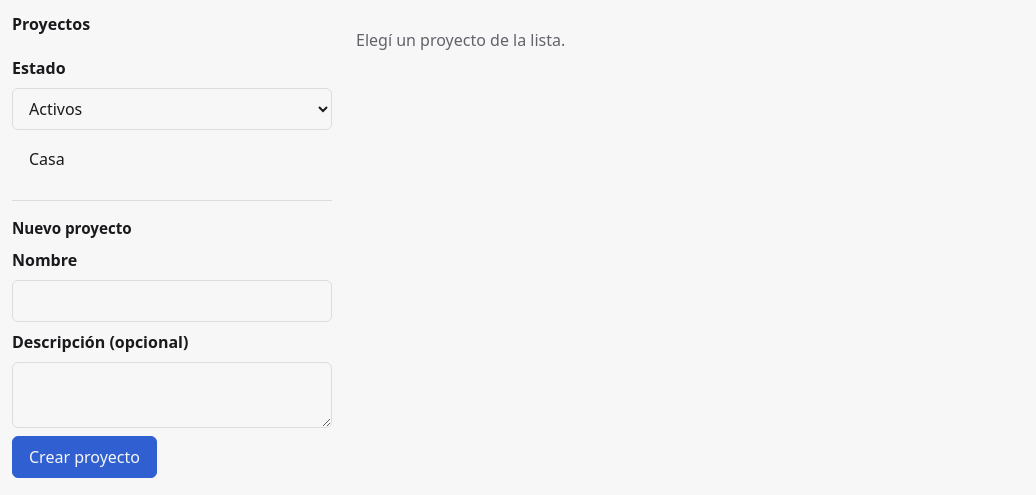
Test: ProjectsPage selection › selecting a project marks it as current and shows its detail
What coordinates should you click on to do the following:
click the button "Casa"
I would click on:
 (47, 159)
Its box is [12,138,332,180].
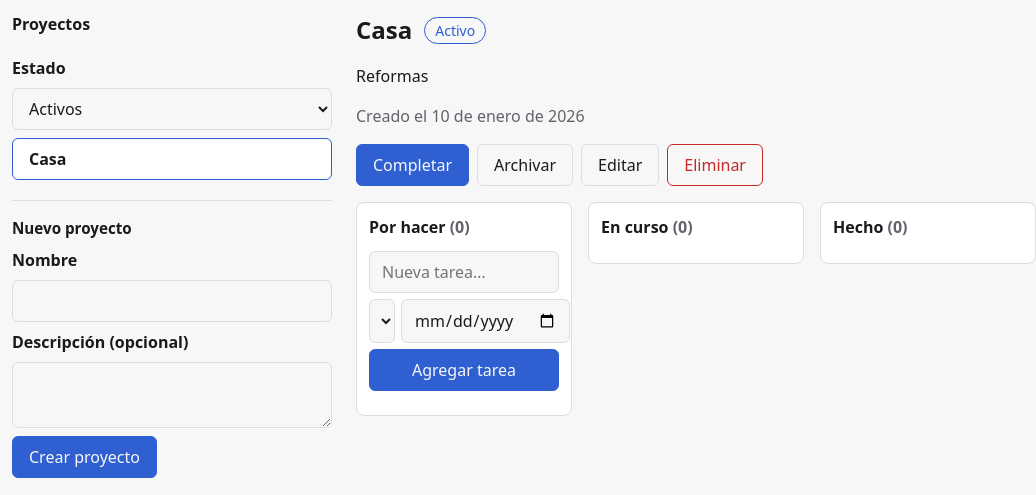
expect the heading "Casa" is shown: met, box [356,12,412,48]
expect the text "Reformas" is shown: met, box [356,65,428,87]
